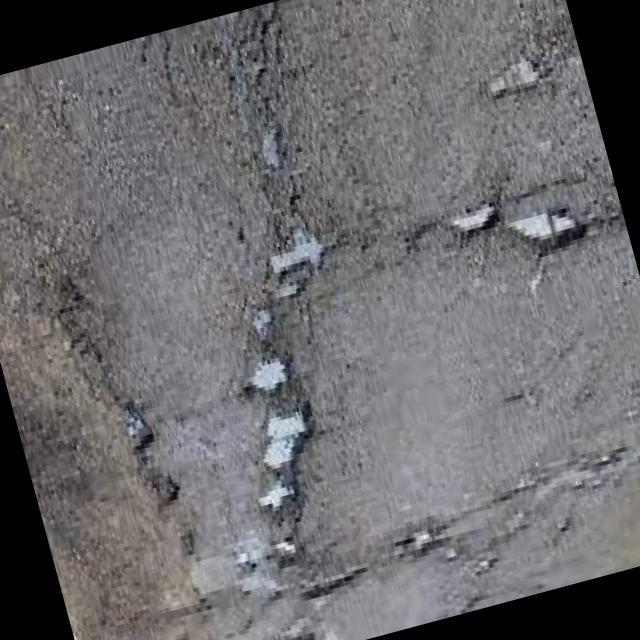pothole: (507, 200, 590, 262), (253, 400, 324, 471), (485, 50, 555, 110), (234, 346, 296, 402), (434, 197, 504, 244), (268, 225, 329, 278), (394, 524, 454, 573), (258, 477, 301, 516), (246, 297, 282, 335), (266, 530, 304, 566)
